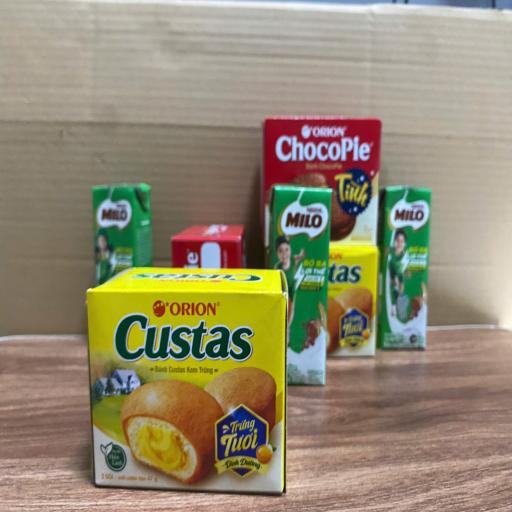chocopie: (262, 116, 382, 242), (170, 224, 246, 268)
custas: (84, 267, 288, 496), (327, 240, 378, 357)
milo: (266, 184, 333, 387), (376, 185, 432, 351), (92, 182, 152, 286)
